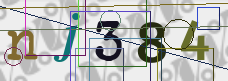3: (94, 19, 123, 61)
4: (179, 19, 210, 62)
8: (137, 21, 167, 64)
j: (52, 12, 80, 63)
n: (6, 28, 37, 60)
